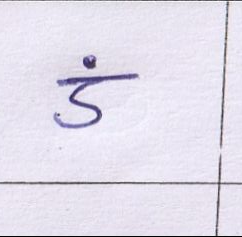anusvara: (83, 56, 96, 68)
